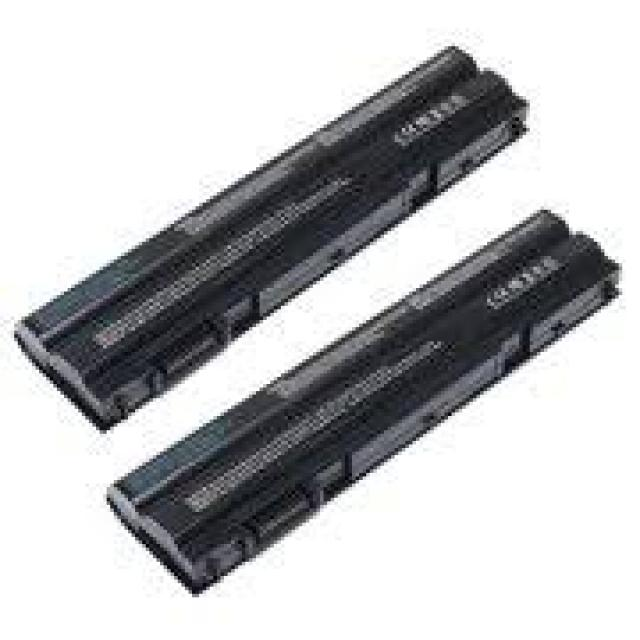non-organic waste: (105, 199, 632, 595), (18, 42, 526, 430)
